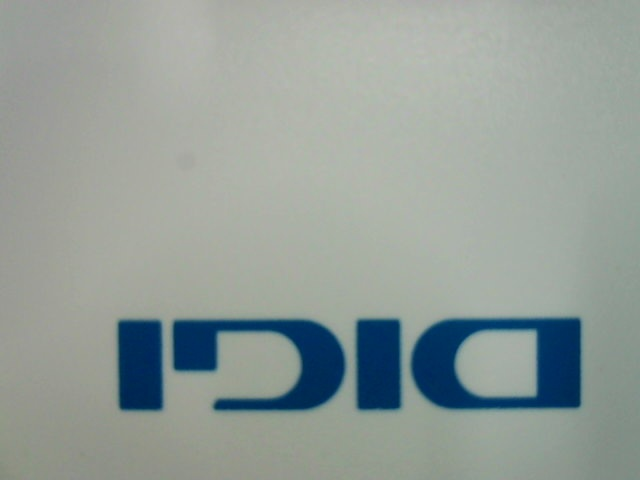BL_DIGI: (107, 303, 583, 415)
